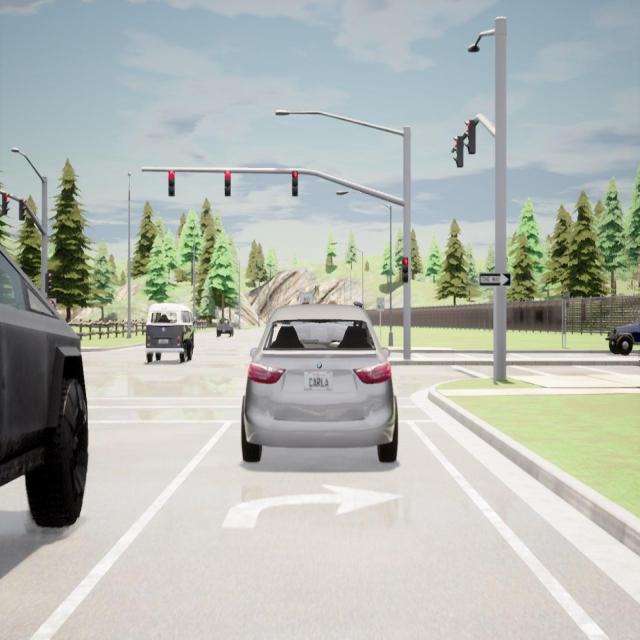Traffic_Signs: (480, 273, 511, 286), (299, 292, 313, 304), (376, 296, 386, 310), (48, 298, 57, 309)
Vehicle: (0, 246, 91, 531), (242, 304, 398, 461), (145, 302, 197, 363), (607, 322, 640, 357), (216, 317, 234, 338)
traffic_light: (464, 120, 476, 154), (452, 136, 463, 168), (168, 168, 175, 196), (2, 192, 10, 215), (225, 170, 231, 197), (292, 170, 298, 197), (402, 256, 408, 283), (45, 272, 52, 294), (19, 199, 26, 220)
